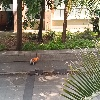fire: (31, 54, 40, 62)
